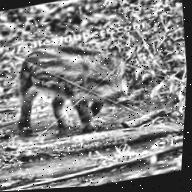boar: (8, 12, 144, 150)
